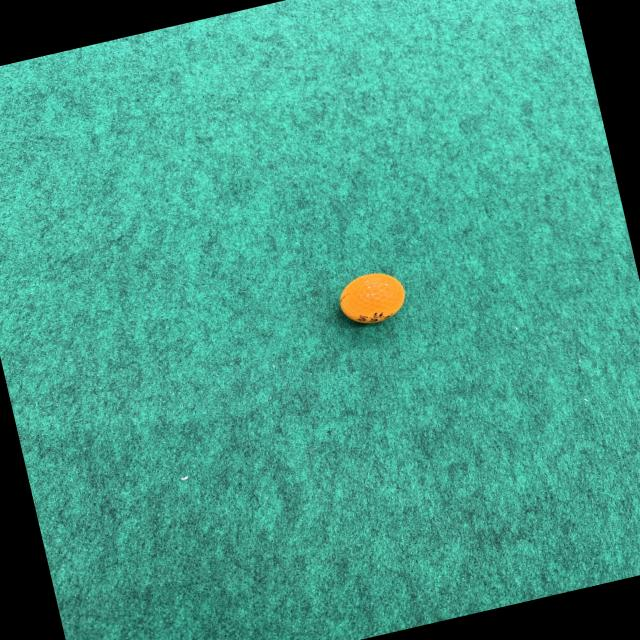ball: (332, 266, 411, 332)
